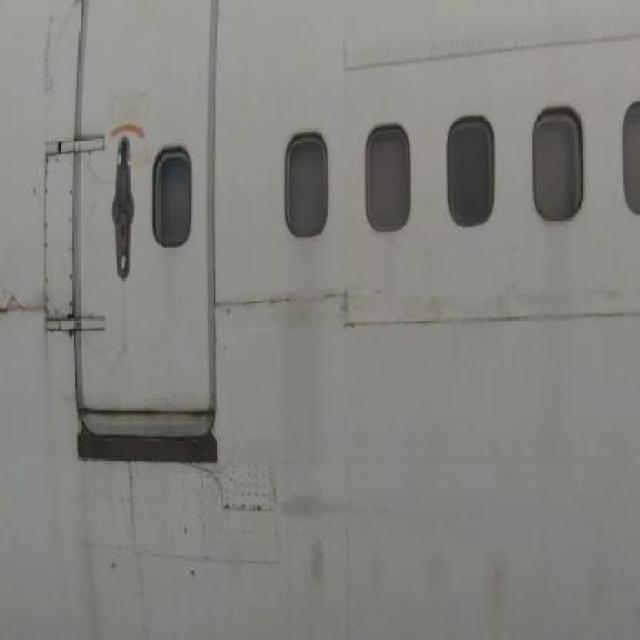Missing-Rivet: (42, 150, 56, 318), (64, 157, 78, 314)
Scartch: (294, 286, 378, 337), (38, 5, 62, 103)
